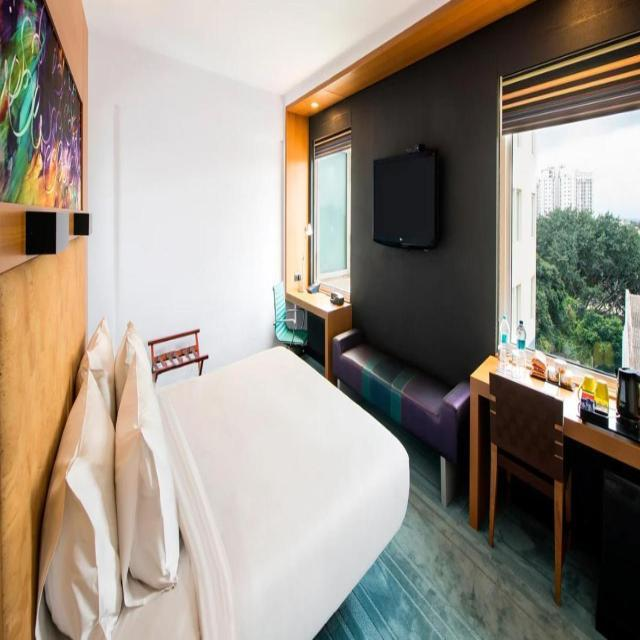bed: (22, 308, 414, 640)
sofa: (332, 326, 471, 508)
